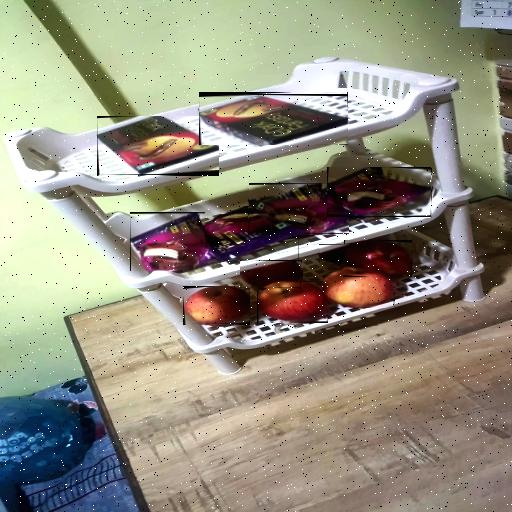Apple: (258, 282, 328, 322), (324, 268, 394, 308), (183, 286, 250, 324), (344, 240, 412, 277), (240, 261, 301, 288), (320, 244, 353, 263)
Choco Fills: (199, 95, 348, 145), (97, 116, 219, 175)
Choco Pie: (328, 167, 431, 217), (205, 206, 299, 260), (250, 183, 349, 234), (131, 213, 218, 271)
